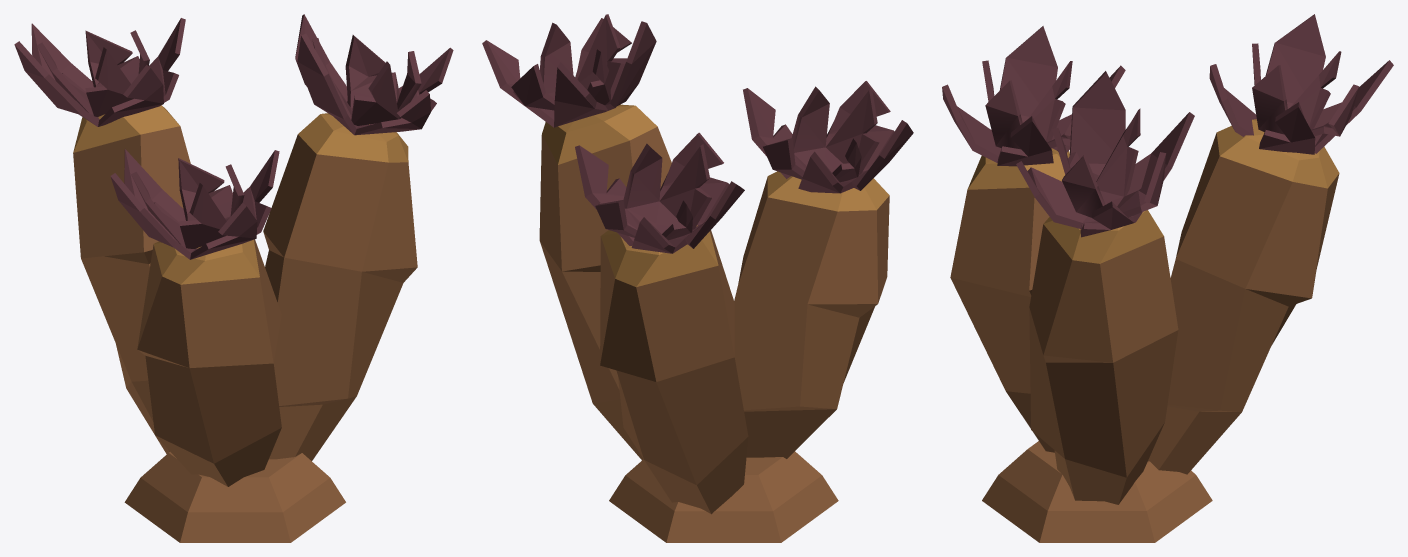
Rendered from SM_Cycad_Triple_Prehistoric.fbx.
3 renders of one model, left to right at view 1: azimuth 30°, elevation 25°; view 2: azimuth 150°, elevation 25°; view 3: azimuth 270°, elevation 25°, orthographic. The views are drawn at different scales.
Visible parts, largest first — view 1: SM_Cycad_Triple_Prehistoric; view 2: SM_Cycad_Triple_Prehistoric; view 3: SM_Cycad_Triple_Prehistoric.
Boxes of the visible parts, x1=… form: SM_Cycad_Triple_Prehistoric: x1=14, y1=14, x2=453, y2=542; SM_Cycad_Triple_Prehistoric: x1=482, y1=14, x2=913, y2=542; SM_Cycad_Triple_Prehistoric: x1=942, y1=14, x2=1393, y2=542.
Bounding box in the file's own units: 3.92 × 4.45 × 3.91.
